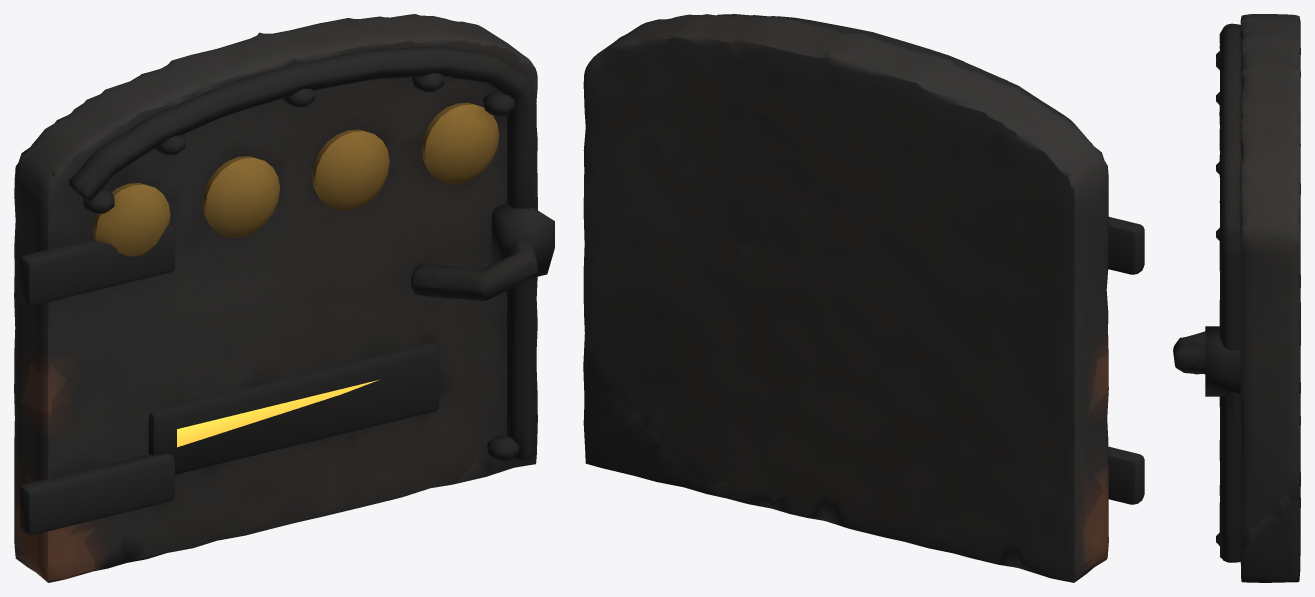
File: ember_oven_door.glb
3 renders of one model, left to right at view 1: azimuth 30°, elevation 25°; view 2: azimuth 150°, elevation 25°; view 3: azimuth 270°, elevation 25°, orthographic. The views are drawn at different scales.
Parts seen in each view (by area): view 1: ember_oven_door; view 2: ember_oven_door; view 3: ember_oven_door.
Boxes of the visible parts, bbox=[...] form: ember_oven_door: bbox=[14, 14, 554, 582]; ember_oven_door: bbox=[583, 14, 1144, 582]; ember_oven_door: bbox=[1173, 14, 1300, 582].
Bounding box in the file's own units: 10.5 × 9 × 2.54.
